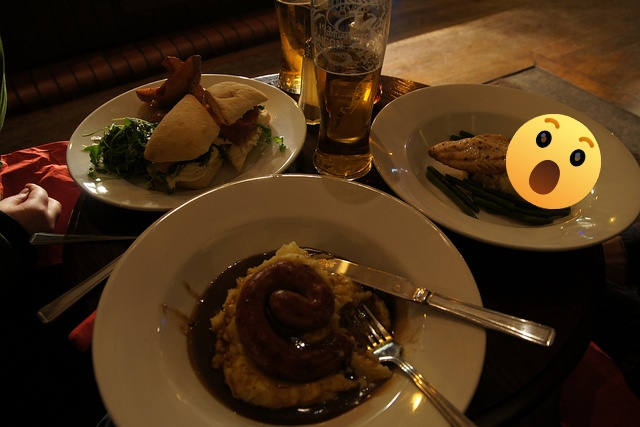wow: (506, 114, 601, 209)
